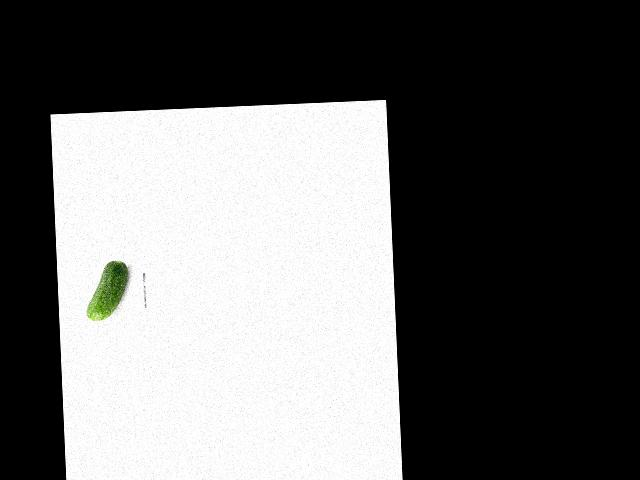cucumber: (84, 260, 130, 320)
